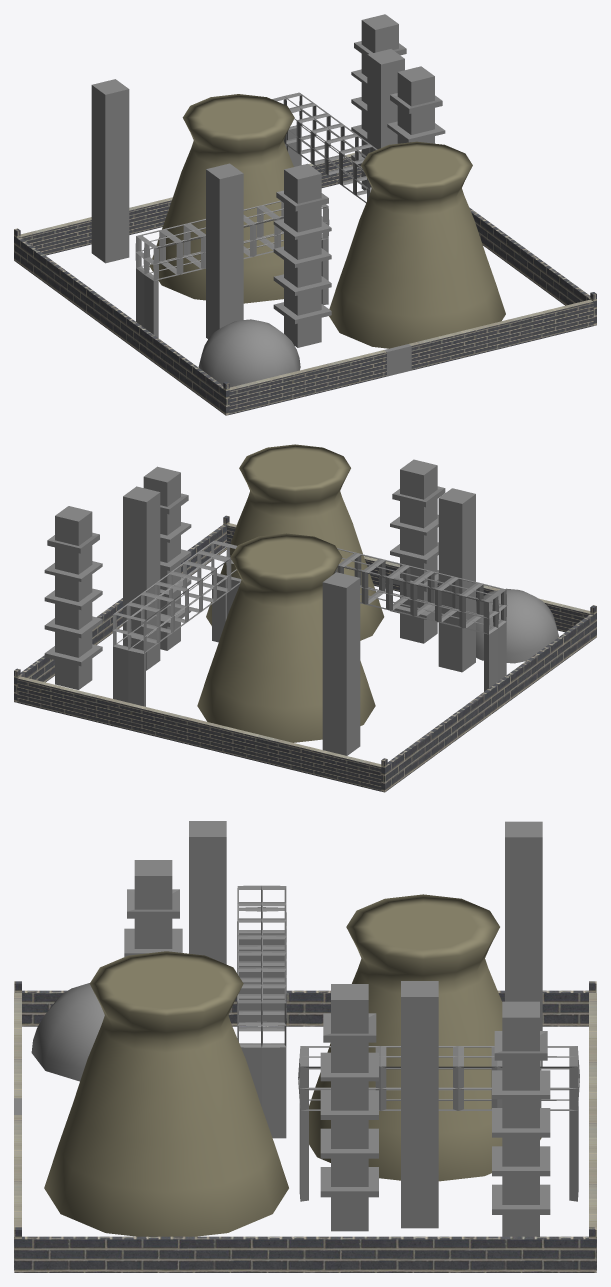
File: Factory.fbx
3 renders of one model, top to bottom at view 1: azimuth 30°, elevation 25°; view 2: azimuth 150°, elevation 25°; view 3: azimuth 270°, elevation 25°, orthographic. The views are drawn at different scales.
Visible parts, largest first — view 1: factory.002; view 2: factory.002; view 3: factory.002.
Boxes of the visible parts, x1,y1,x2,y2 form: factory.002: (14, 14, 596, 415); factory.002: (14, 444, 596, 792); factory.002: (14, 821, 596, 1272).
Bounding box in the file's own units: 18478 × 8376 × 18308.
3 materials, 3 textured.
